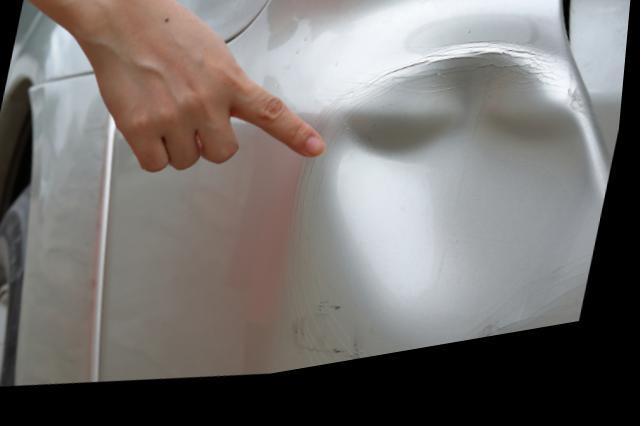dent: (319, 62, 614, 373)
